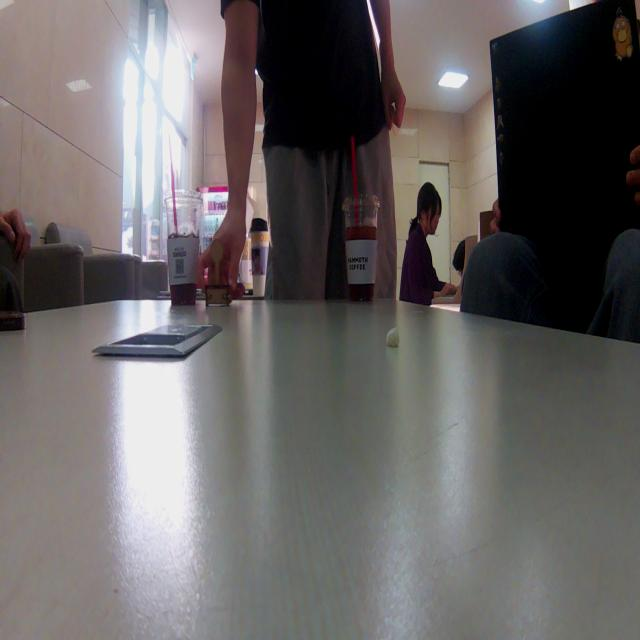target: (205, 241, 230, 307)
